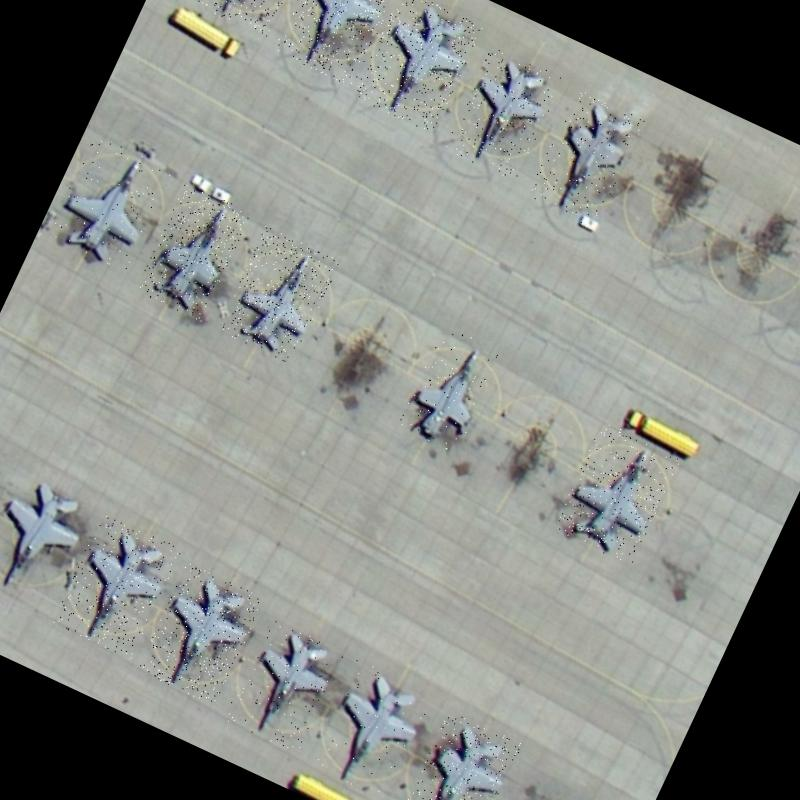A16: (50, 512, 182, 660), (552, 420, 682, 565), (303, 657, 433, 800), (136, 562, 264, 706), (220, 614, 346, 754), (352, 0, 483, 133), (46, 134, 172, 272), (216, 226, 340, 365), (525, 89, 644, 230), (444, 45, 564, 182), (134, 182, 251, 322), (0, 465, 99, 610), (396, 324, 504, 454), (272, 0, 403, 87), (397, 709, 522, 800), (184, 0, 316, 37)
